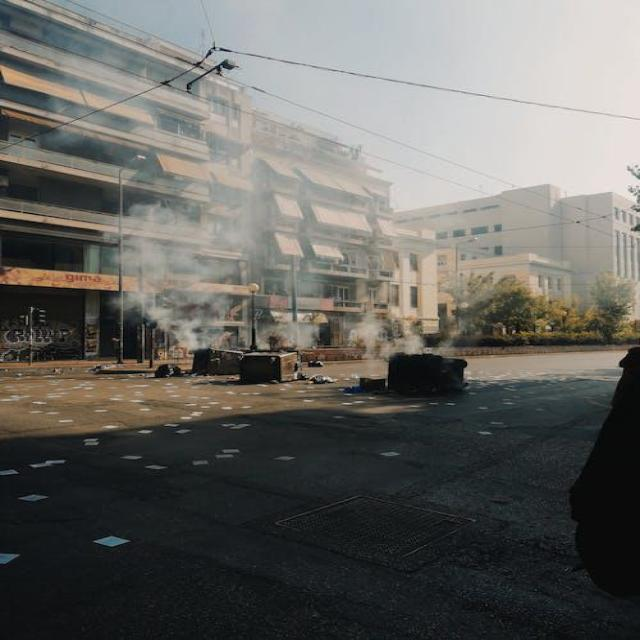paper: (83, 521, 128, 563), (27, 452, 68, 472), (140, 460, 182, 478), (76, 430, 108, 452), (375, 445, 402, 469), (134, 421, 162, 444), (219, 422, 260, 436), (15, 488, 42, 506), (271, 455, 306, 468)
